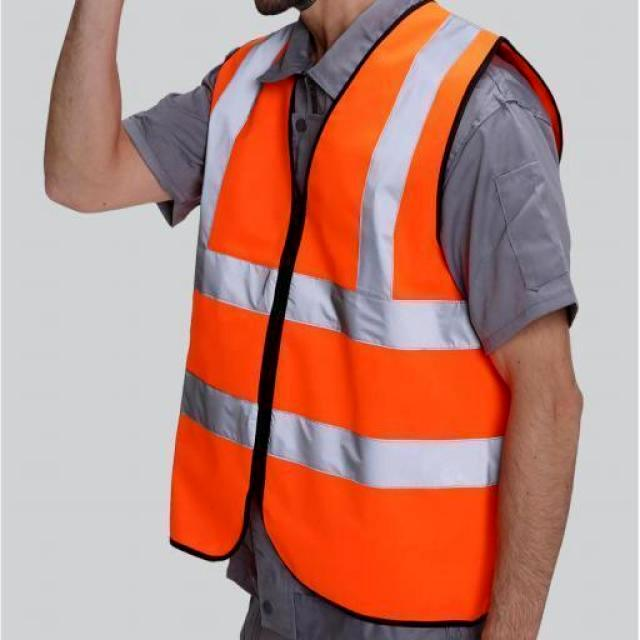person: (45, 0, 581, 639)
